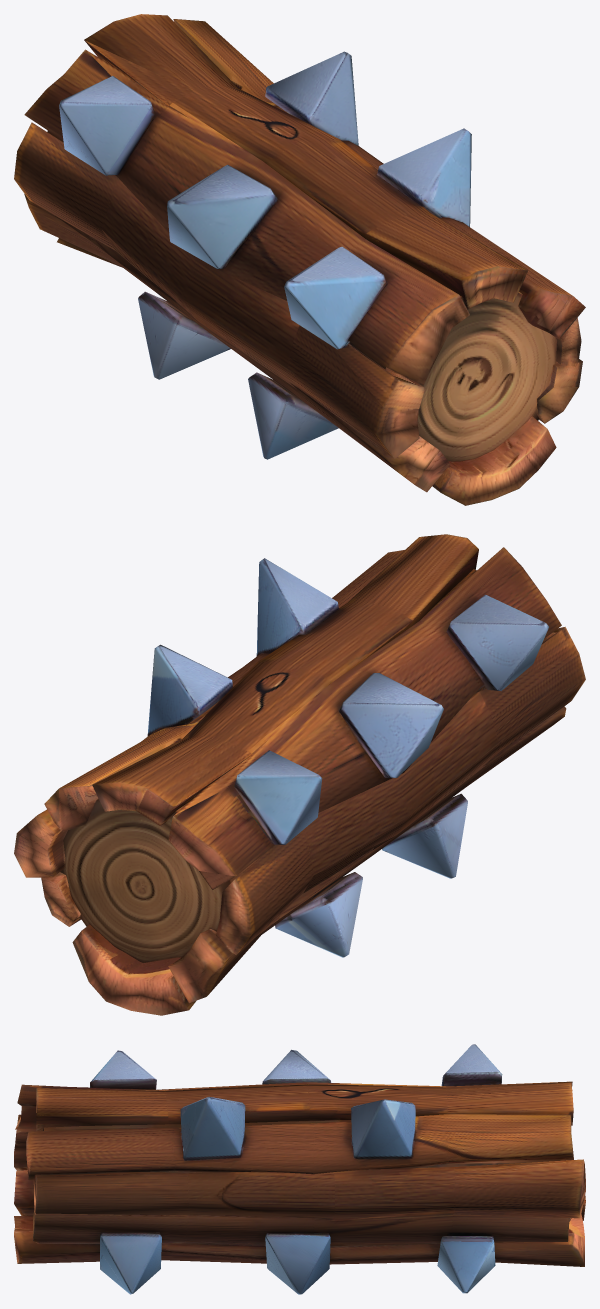
Rendered from Meshy_AI_Spiked_Log_0717155255_texture.fbx.
3 views of the same model, one above another, from view 1: azimuth 30°, elevation 25°; view 2: azimuth 150°, elevation 25°; view 3: azimuth 270°, elevation 25° (orthographic). The views are drawn at different scales.
Visible parts, largest first — view 1: Mesh_0; view 2: Mesh_0; view 3: Mesh_0.
Boxes of the visible parts, x1,y1,x2,y2 form: Mesh_0: (14,14,585,505); Mesh_0: (14,534,585,1015); Mesh_0: (14,1044,585,1294).
Bounding box in the file's own units: 42.87 × 42.19 × 100.
Materials: 1 (1 with a texture image).
